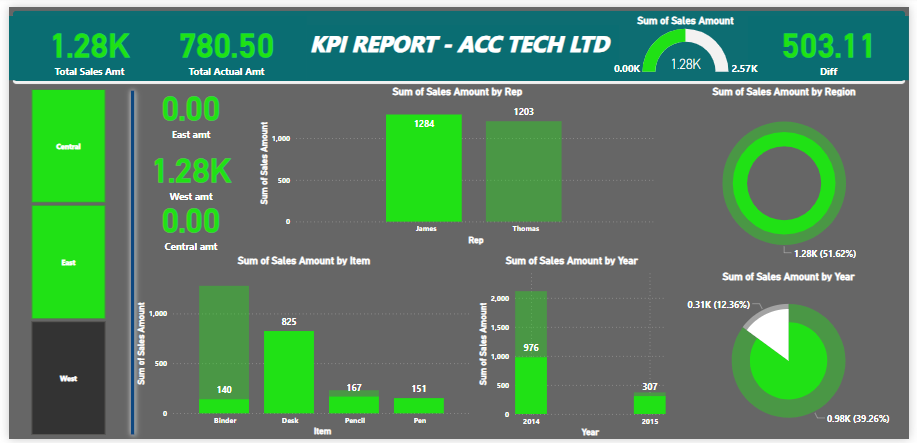

The page's visual inventory and layout, read from the dashboard file:
{"tool":"powerbi","page":{"name":"Page 1","canvas":[1500,720],"ordinal":0},"visuals":[{"type":"shape","box":[0,0,1500,129.9],"z":0},{"type":"textbox","box":[496.8,30.2,519.8,92.2],"z":1000},{"type":"shape","box":[0,129.6,411.8,591.8],"z":2000},{"type":"card","fields":{"Values":["Master.East amt"]},"box":[206.2,121.8,193.2,103.9],"z":3000},{"type":"card","fields":{"Values":["Master.West amt"]},"box":[206.2,225.6,193.2,103.9],"z":4000},{"type":"card","fields":{"Values":["Master.Central amt"]},"box":[206.2,308.4,193.2,103.9],"z":5000},{"type":"slicer","fields":{"Values":["Master.Region"]},"box":[11.5,129.6,172.8,590.4],"z":6000},{"type":"card","fields":{"Values":["Master.Total Sales Amt"]},"box":[0,14.6,267.9,107.1],"z":7000},{"type":"card","fields":{"Values":["Master.Diff"]},"box":[1232.1,14.6,267.9,107.1],"z":8000},{"type":"card","fields":{"Values":["Master.Total Actual Amt"]},"box":[228.9,14.6,267.9,107.1],"z":9000},{"type":"donutChart","fields":{"Y":["Sum(Master.Sales Amount)"],"Category":["Master.Region"]},"box":[1082.8,129.9,417.2,308.4],"z":10000},{"type":"columnChart","fields":{"Category":["Master.Rep"],"Y":["Sum(Master.Sales Amount)"]},"box":[411.8,129.6,671,270.7],"z":11000},{"type":"gauge","fields":{"Y":["Sum(Master.Sales Amount)"]},"box":[998.4,11.4,258.1,107.1],"z":12000},{"type":"pieChart","fields":{"Category":["Master.OrderDate.Variation.Date Hierarchy.Year","Master.OrderDate.Variation.Date Hierarchy.Quarter","Master.OrderDate.Variation.Date Hierarchy.Month","Master.OrderDate.Variation.Date Hierarchy.Day"],"Y":["Sum(Master.Sales Amount)"]},"box":[1098.7,437.8,401.8,283.7],"z":13000},{"type":"clusteredColumnChart","fields":{"Category":["Master.OrderDate.Variation.Date Hierarchy.Year","Master.OrderDate.Variation.Date Hierarchy.Month","Master.OrderDate.Variation.Date Hierarchy.Day"],"Y":["Sum(Master.Sales Amount)"]},"box":[776.2,411.8,322.6,309.6],"z":14000},{"type":"columnChart","fields":{"Y":["Sum(Master.Sales Amount)"],"Category":["Master.Item"]},"box":[206.2,412.3,569.8,308.4],"z":15000}]}

Visuals, with their boxes in screenshot pixels (x1, y1, x2, y2), scaled from the page's 1500x720 canvas onto the 917x443 screenshot:
shape: locate(0, 0, 916, 80)
textbox: locate(304, 19, 621, 75)
shape: locate(0, 80, 252, 442)
card - Master.East amt: locate(126, 75, 244, 139)
card - Master.West amt: locate(126, 139, 244, 203)
card - Master.Central amt: locate(126, 190, 244, 254)
slicer - Master.Region: locate(7, 80, 113, 442)
card - Master.Total Sales Amt: locate(0, 9, 164, 75)
card - Master.Diff: locate(753, 9, 916, 75)
card - Master.Total Actual Amt: locate(140, 9, 304, 75)
donutChart - Sum(Master.Sales Amount) x Master.Region: locate(662, 80, 916, 270)
columnChart - Master.Rep x Sum(Master.Sales Amount): locate(252, 80, 662, 246)
gauge - Sum(Master.Sales Amount): locate(610, 7, 768, 73)
pieChart - Master.OrderDate.Variation.Date Hierarchy.Year x Master.OrderDate.Variation.Date Hierarchy.Quarter: locate(672, 269, 916, 442)
clusteredColumnChart - Master.OrderDate.Variation.Date Hierarchy.Year x Master.OrderDate.Variation.Date Hierarchy.Month: locate(475, 253, 672, 442)
columnChart - Sum(Master.Sales Amount) x Master.Item: locate(126, 254, 474, 442)
